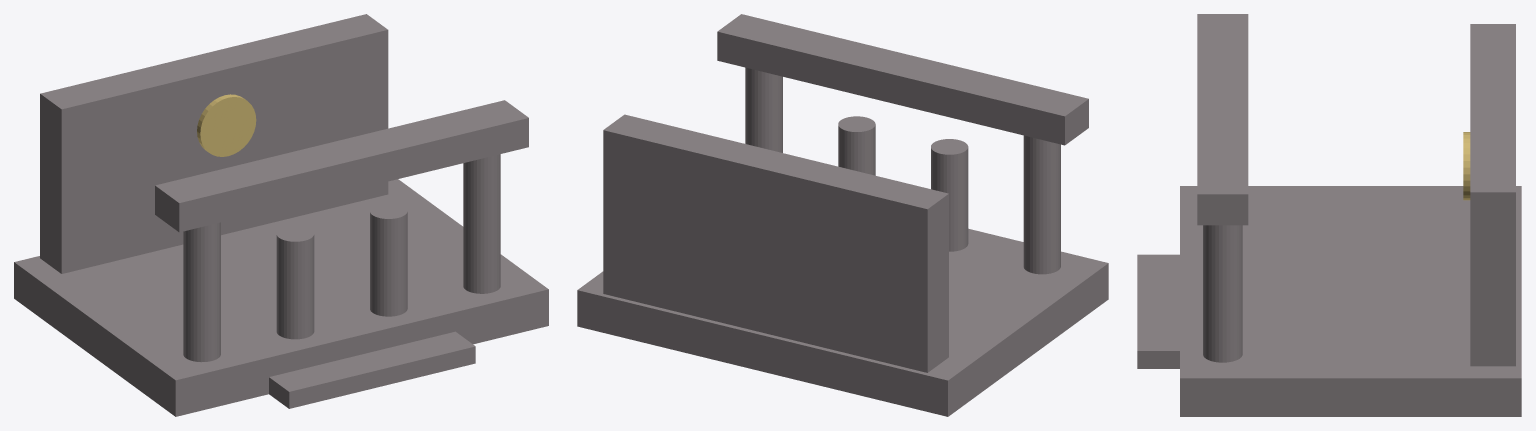
File: structure_imperial_palace_ruin.glb
3 renders of one model, left to right at view 1: azimuth 30°, elevation 25°; view 2: azimuth 150°, elevation 25°; view 3: azimuth 270°, elevation 25°, orthographic. The views are drawn at different scales.
Visible parts, largest first — view 1: Palace_Foundation, Cube.002, Cube.001, Cube, Palace_Col_4, Palace_Col_1, Palace_Col_2, Palace_Col_3, Cylinder; view 2: Cube.002, Palace_Foundation, Cube.001, Palace_Col_1, Palace_Col_2, Palace_Col_4, Palace_Col_3; view 3: Palace_Foundation, Cube.002, Cube.001, Palace_Col_4, Cube, Cylinder.
Boxes of the visible parts, left/top/right/bottom form: Palace_Foundation: left=14, top=179, right=548, bottom=416; Cube.002: left=40, top=14, right=388, bottom=273; Cube.001: left=155, top=100, right=528, bottom=232; Cube: left=269, top=331, right=475, bottom=408; Palace_Col_4: left=463, top=154, right=500, bottom=293; Palace_Col_1: left=183, top=222, right=220, bottom=362; Palace_Col_2: left=276, top=226, right=314, bottom=339; Palace_Col_3: left=370, top=203, right=407, bottom=316; Cylinder: left=197, top=94, right=256, bottom=156; Cube.002: left=603, top=114, right=948, bottom=372; Palace_Foundation: left=577, top=229, right=1108, bottom=416; Cube.001: left=717, top=14, right=1088, bottom=145; Palace_Col_1: left=1023, top=135, right=1060, bottom=274; Palace_Col_2: left=931, top=139, right=968, bottom=251; Palace_Col_4: left=745, top=67, right=782, bottom=152; Palace_Col_3: left=838, top=116, right=875, bottom=175; Palace_Foundation: left=1180, top=186, right=1521, bottom=416; Cube.002: left=1470, top=24, right=1515, bottom=366; Cube.001: left=1197, top=14, right=1248, bottom=225; Palace_Col_4: left=1203, top=225, right=1242, bottom=362; Cube: left=1137, top=254, right=1179, bottom=368; Cylinder: left=1463, top=132, right=1470, bottom=200.
Bounding box in the file's own units: 16 × 8.4 × 13.5.
